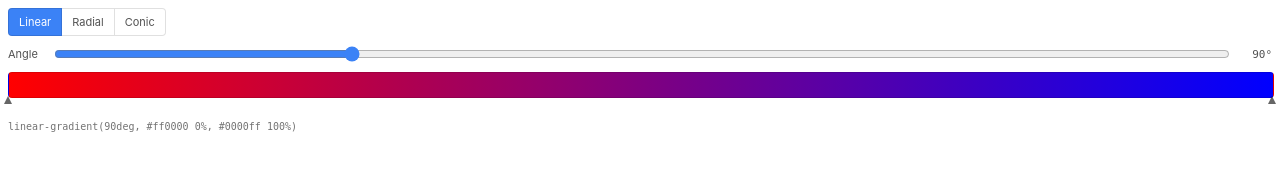
GradientEditor stop markers a11y › focusing a marker selects its stop (stop controls appear)
The image size is (1280, 183).
Focus the slider named "Gradient stop 2 of 2". click: (1272, 100)
box: [1268,96,1276,104]
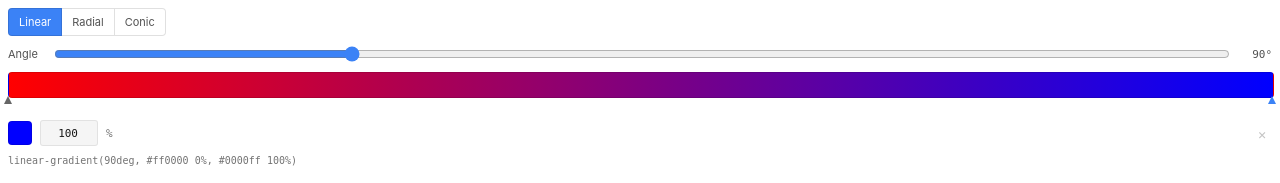
Expected: the number field holds "100", [40,120,98,146]
